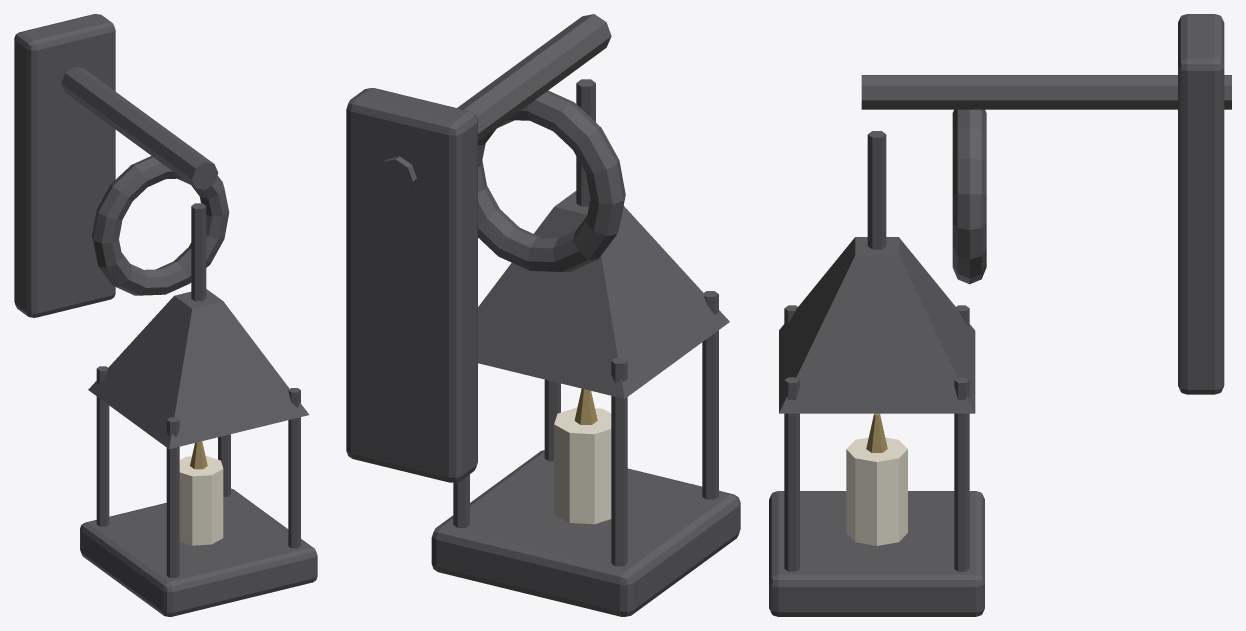
3 renders of one model, left to right at view 1: azimuth 30°, elevation 25°; view 2: azimuth 150°, elevation 25°; view 3: azimuth 270°, elevation 25°, orthographic. The views are drawn at different scales.
Parts seen in each view (by area): view 1: wallLantern; view 2: wallLantern; view 3: wallLantern.
Part boxes in pixels (x1=…): wallLantern: x1=14, y1=14, x2=317, y2=616; wallLantern: x1=346, y1=14, x2=740, y2=616; wallLantern: x1=769, y1=14, x2=1231, y2=616.
Bounding box in the file's own units: 0.14 × 0.385 × 0.3.
